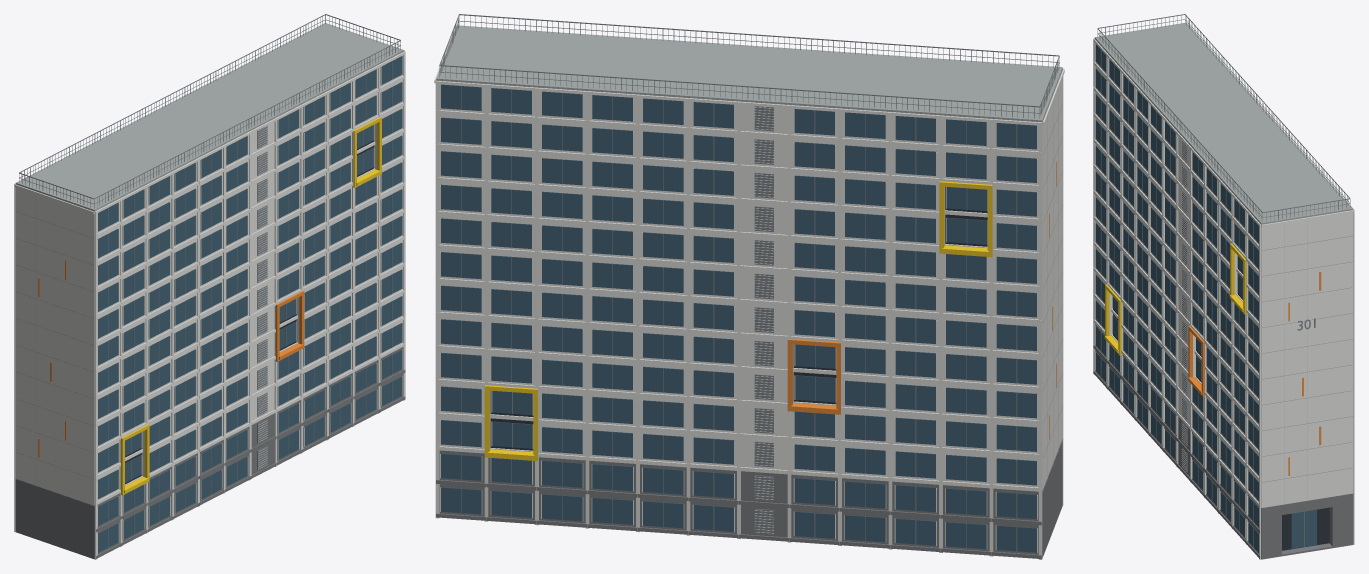
Rendered from bespoke-songpa-helio-city-301.glb.
3 renders of one model, left to right at view 1: azimuth 30°, elevation 25°; view 2: azimuth 150°, elevation 25°; view 3: azimuth 270°, elevation 25°, orthographic. The views are drawn at different scales.
Visible parts, largest first — view 1: Helio301_editable_Helio301_white_slab_frames, Helio301_editable_Helio301_dark_blue_grey_glazing, Helio301_editable_Helio301_low_roof_deck, Helio301_editable_Helio301_grey_service_grille, Helio301_editable_Helio301_dark_grey_twofloor_base, Helio301_editable_Helio301_blankwall_grey_panels, Helio301_editable_Helio301_yellow_projecting_rectangular_fra, Helio301_editable_Helio301_orange_narrow_accent; view 2: Helio301_editable_Helio301_dark_blue_grey_glazing, Helio301_editable_Helio301_white_slab_frames, Helio301_editable_Helio301_low_roof_deck, Helio301_editable_Helio301_grey_service_grille, Helio301_editable_Helio301_dark_grey_twofloor_base, Helio301_editable_Helio301_blankwall_grey_panels, Helio301_editable_Helio301_yellow_projecting_rectangular_fra, Helio301_editable_Helio301_orange_narrow_accent, Helio301_editable_Helio301_deep_shaded_frame_recess; view 3: Helio301_editable_Helio301_white_slab_frames, Helio301_editable_Helio301_dark_blue_grey_glazing, Helio301_editable_Helio301_low_roof_deck, Helio301_editable_Helio301_grey_service_grille, Helio301_editable_Helio301_dark_grey_twofloor_base, Helio301_editable_Helio301_blankwall_grey_panels, Helio301_editable_Helio301_yellow_projecting_rectangular_fra, Helio301_editable_Helio301_deep_shaded_frame_recess, Helio301_editable_Helio301_orange_narrow_accent.
Part boxes in pixels (x1=…): Helio301_editable_Helio301_white_slab_frames: x1=14, y1=50, x2=405, y2=559; Helio301_editable_Helio301_dark_blue_grey_glazing: x1=97, y1=56, x2=402, y2=552; Helio301_editable_Helio301_low_roof_deck: x1=15, y1=23, x2=404, y2=211; Helio301_editable_Helio301_grey_service_grille: x1=16, y1=14, x2=400, y2=547; Helio301_editable_Helio301_dark_grey_twofloor_base: x1=15, y1=347, x2=405, y2=559; Helio301_editable_Helio301_blankwall_grey_panels: x1=35, y1=126, x2=267, y2=491; Helio301_editable_Helio301_yellow_projecting_rectangular_fra: x1=119, y1=117, x2=381, y2=495; Helio301_editable_Helio301_orange_narrow_accent: x1=38, y1=260, x2=304, y2=457; Helio301_editable_Helio301_dark_blue_grey_glazing: x1=441, y1=84, x2=1037, y2=552; Helio301_editable_Helio301_white_slab_frames: x1=434, y1=27, x2=1064, y2=559; Helio301_editable_Helio301_low_roof_deck: x1=436, y1=25, x2=1062, y2=122; Helio301_editable_Helio301_grey_service_grille: x1=439, y1=14, x2=1063, y2=551; Helio301_editable_Helio301_dark_grey_twofloor_base: x1=436, y1=439, x2=1062, y2=558; Helio301_editable_Helio301_blankwall_grey_panels: x1=754, y1=89, x2=1058, y2=533; Helio301_editable_Helio301_yellow_projecting_rectangular_fra: x1=484, y1=181, x2=992, y2=460; Helio301_editable_Helio301_orange_narrow_accent: x1=787, y1=161, x2=1056, y2=439; Helio301_editable_Helio301_deep_shaded_frame_recess: x1=490, y1=186, x2=987, y2=450; Helio301_editable_Helio301_white_slab_frames: x1=1093, y1=24, x2=1354, y2=559; Helio301_editable_Helio301_dark_blue_grey_glazing: x1=1095, y1=44, x2=1316, y2=552; Helio301_editable_Helio301_low_roof_deck: x1=1094, y1=22, x2=1353, y2=224; Helio301_editable_Helio301_grey_service_grille: x1=1097, y1=14, x2=1352, y2=547; Helio301_editable_Helio301_dark_grey_twofloor_base: x1=1093, y1=324, x2=1353, y2=559; Helio301_editable_Helio301_blankwall_grey_panels: x1=1181, y1=140, x2=1307, y2=504; Helio301_editable_Helio301_yellow_projecting_rectangular_fra: x1=1104, y1=243, x2=1247, y2=355; Helio301_editable_Helio301_deep_shaded_frame_recess: x1=1113, y1=267, x2=1329, y2=550; Helio301_editable_Helio301_orange_narrow_accent: x1=1188, y1=272, x2=1321, y2=475.
Size of the model in its own units: 46.81 by 37.4 by 25.6.
